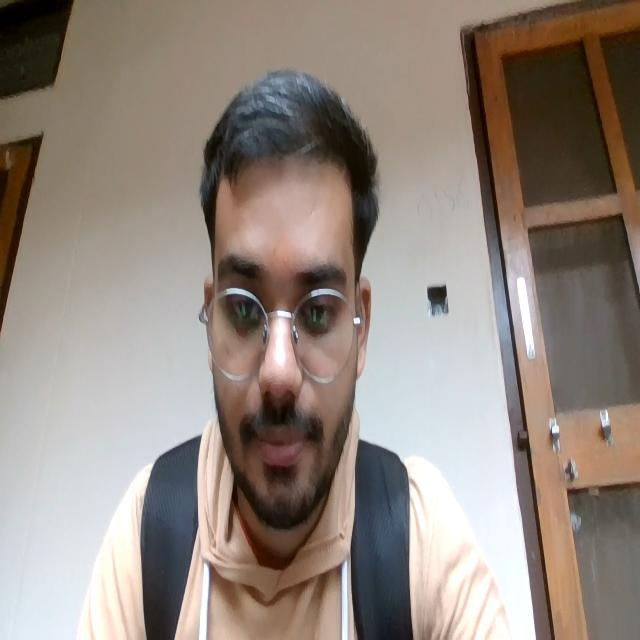awake: (212, 248, 348, 502)
